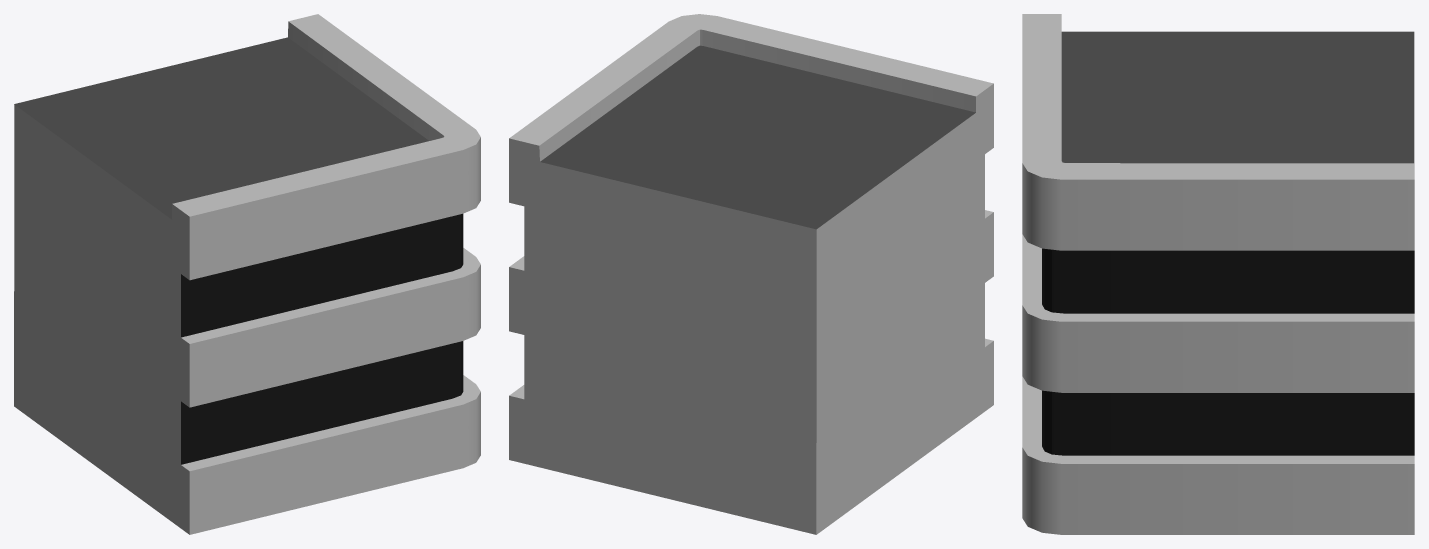
The model's file is Building-Corner.fbx.
3 views of the same model, side by side, from view 1: azimuth 30°, elevation 25°; view 2: azimuth 150°, elevation 25°; view 3: azimuth 270°, elevation 25° (orthographic). The views are drawn at different scales.
Parts seen in each view (by area): view 1: Building-Corner; view 2: Building-Corner; view 3: Building-Corner.
Boxes of the visible parts, x1,y1,x2,y2 form: Building-Corner: [14, 14, 480, 534]; Building-Corner: [509, 14, 993, 534]; Building-Corner: [1022, 14, 1414, 534].
Bounding box in the file's own units: 100 × 100 × 100.
